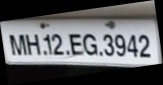character: (9, 34, 27, 55), (24, 33, 41, 55), (67, 32, 83, 55), (82, 33, 98, 55), (50, 32, 64, 55), (101, 32, 114, 56), (138, 33, 150, 57), (114, 33, 126, 56), (126, 34, 138, 56), (43, 33, 52, 55)
